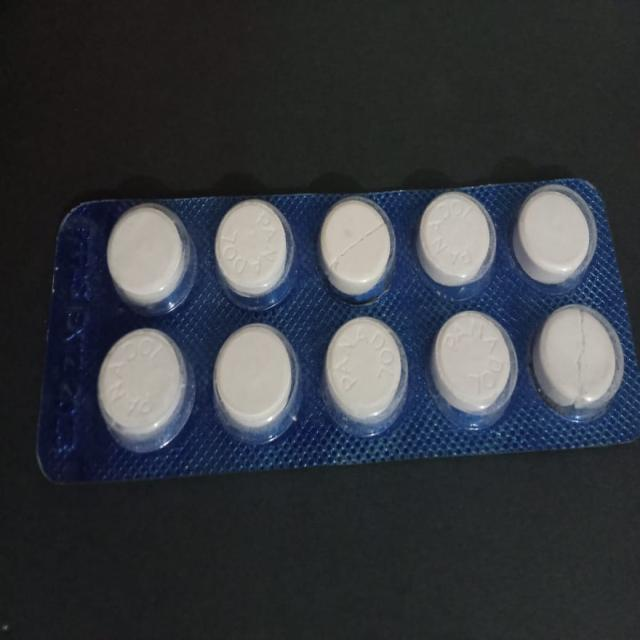defect: (532, 302, 626, 419), (316, 194, 397, 299)
